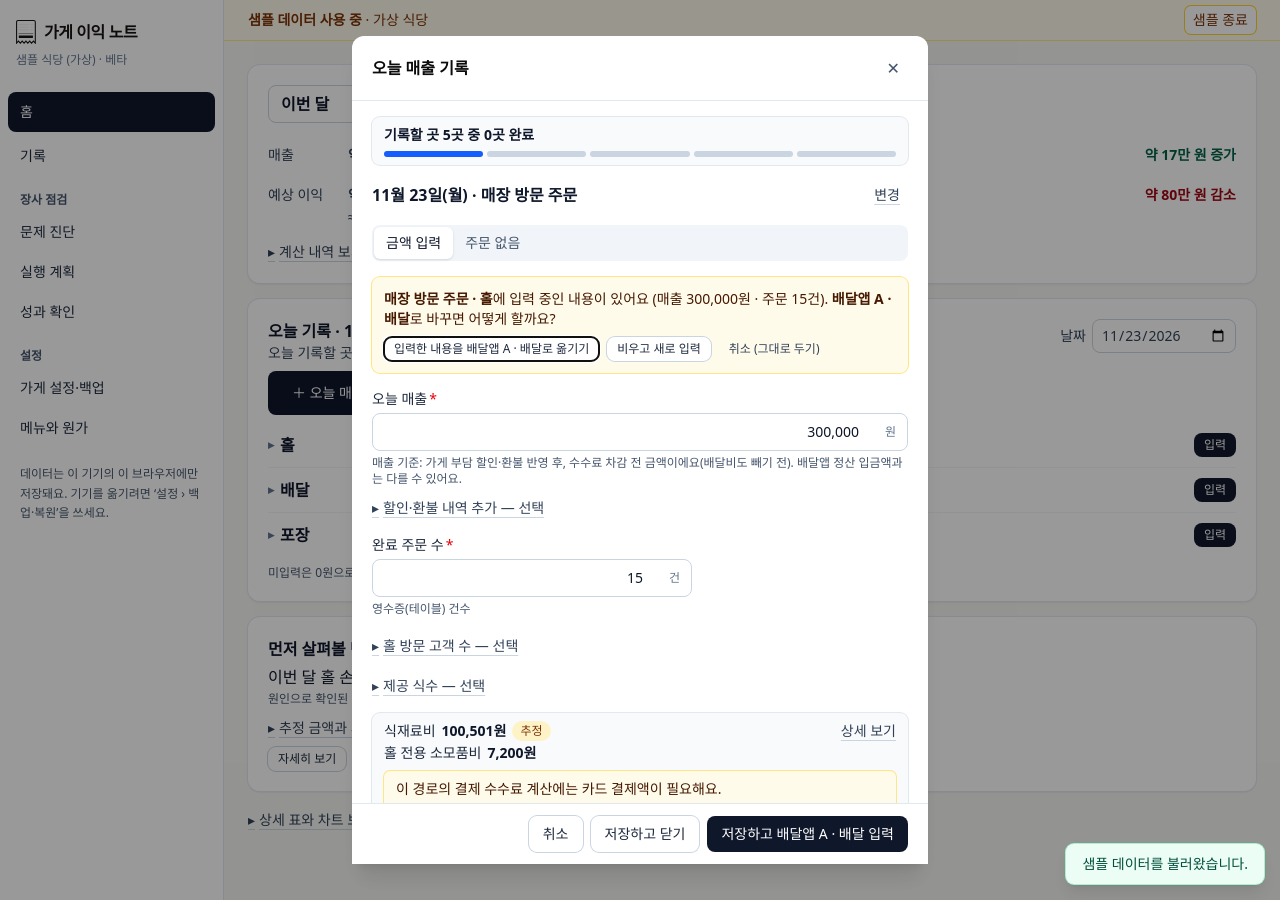
Test: 앱 스모크 테스트 › 판매 방식·경로를 바꿀 때 입력 내용을 보호한다 (옮기기·비우기·취소)
The width and height of the screenshot is (1280, 900).
Earlier steps of the test are not shown.
Later steps or results of the test are not shown.
What coordinates should you click on to do the following:
click the button "비우고 새로 입력"
I would click on:
 (659, 349)
Its box is [607,337,711,361].
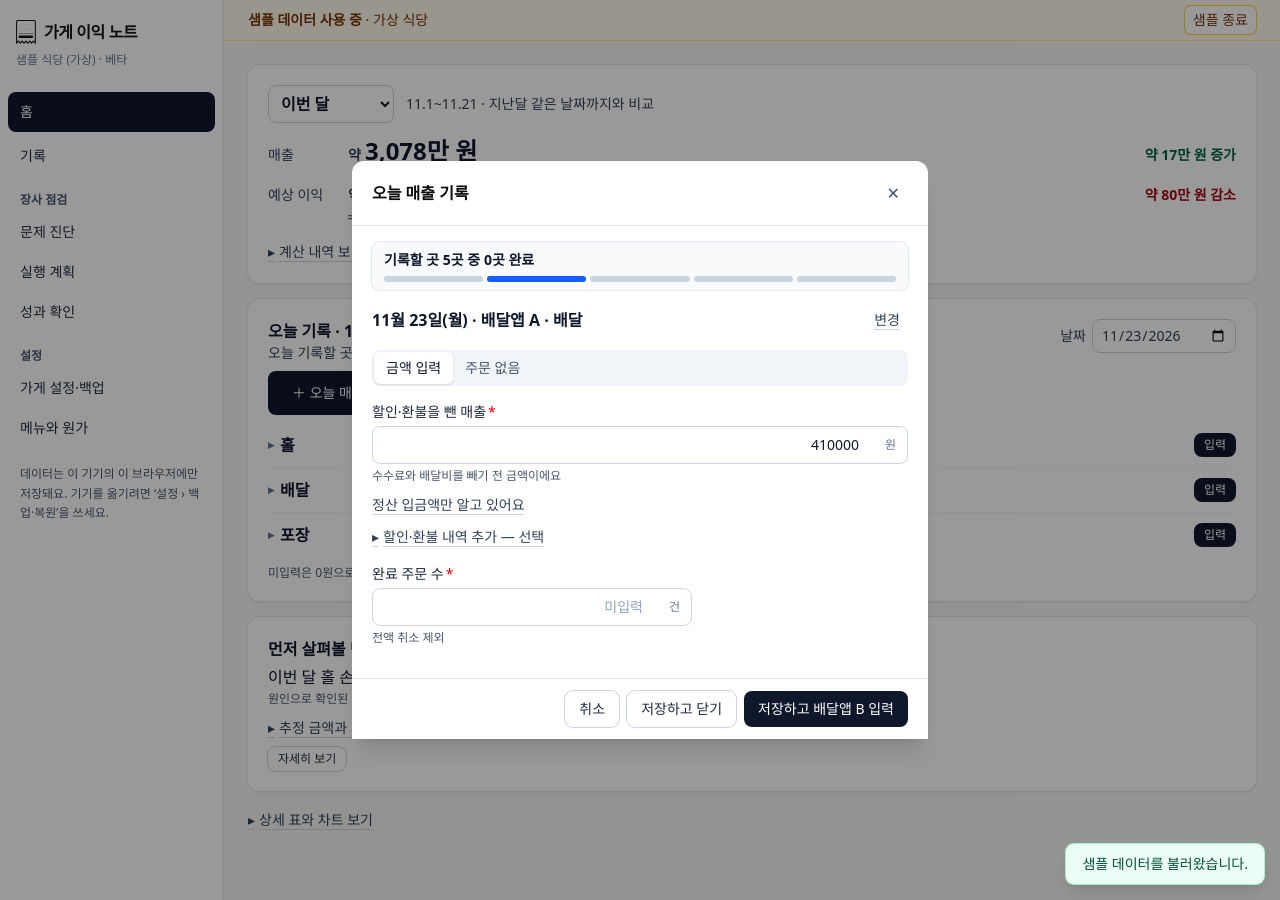
Expected: the heading "11월 23일(월) · 배달앱 A · 배달 변경" is shown, [372,306,908,334]
